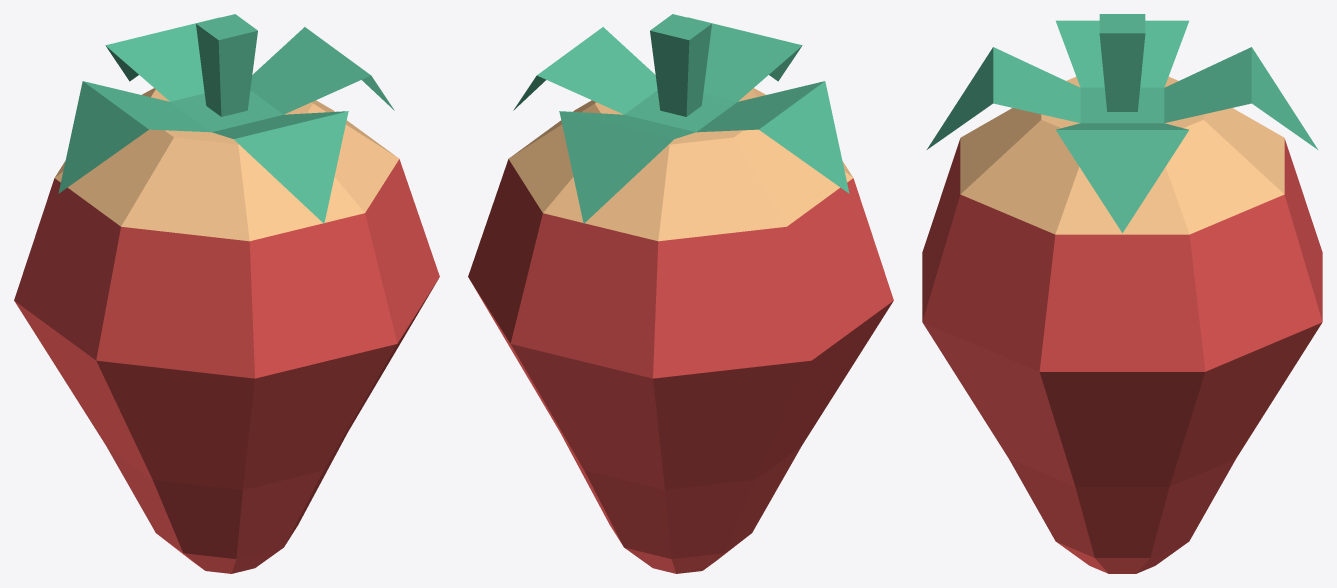
The model's file is strawberry.obj.
3 views of the same model, side by side, from view 1: azimuth 30°, elevation 25°; view 2: azimuth 150°, elevation 25°; view 3: azimuth 270°, elevation 25° (orthographic).
Visible parts, largest first — view 1: strawberry; view 2: strawberry; view 3: strawberry.
Boxes of the visible parts, x1,y1,x2,y2 form: strawberry: (14,14,439,573); strawberry: (468,14,893,573); strawberry: (922,14,1322,573).
Size of the model in its own units: 0.1197 by 0.177 by 0.1197.
